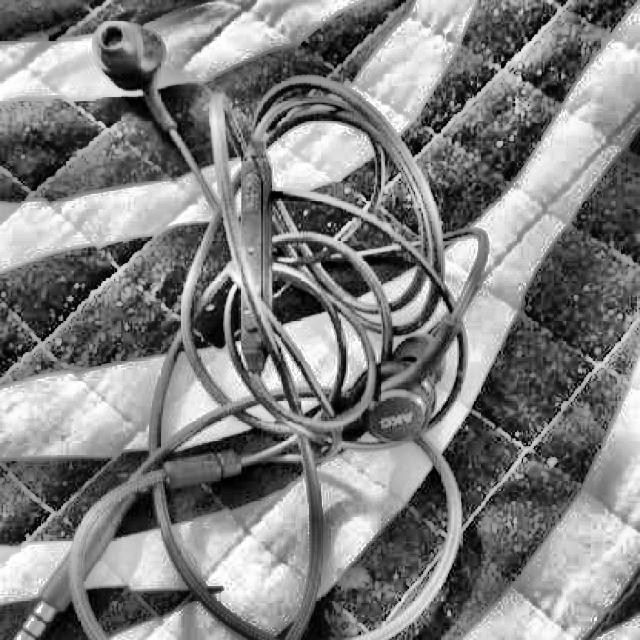Cable: (10, 17, 490, 640)
